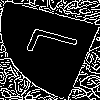L: (25, 25, 91, 66)
